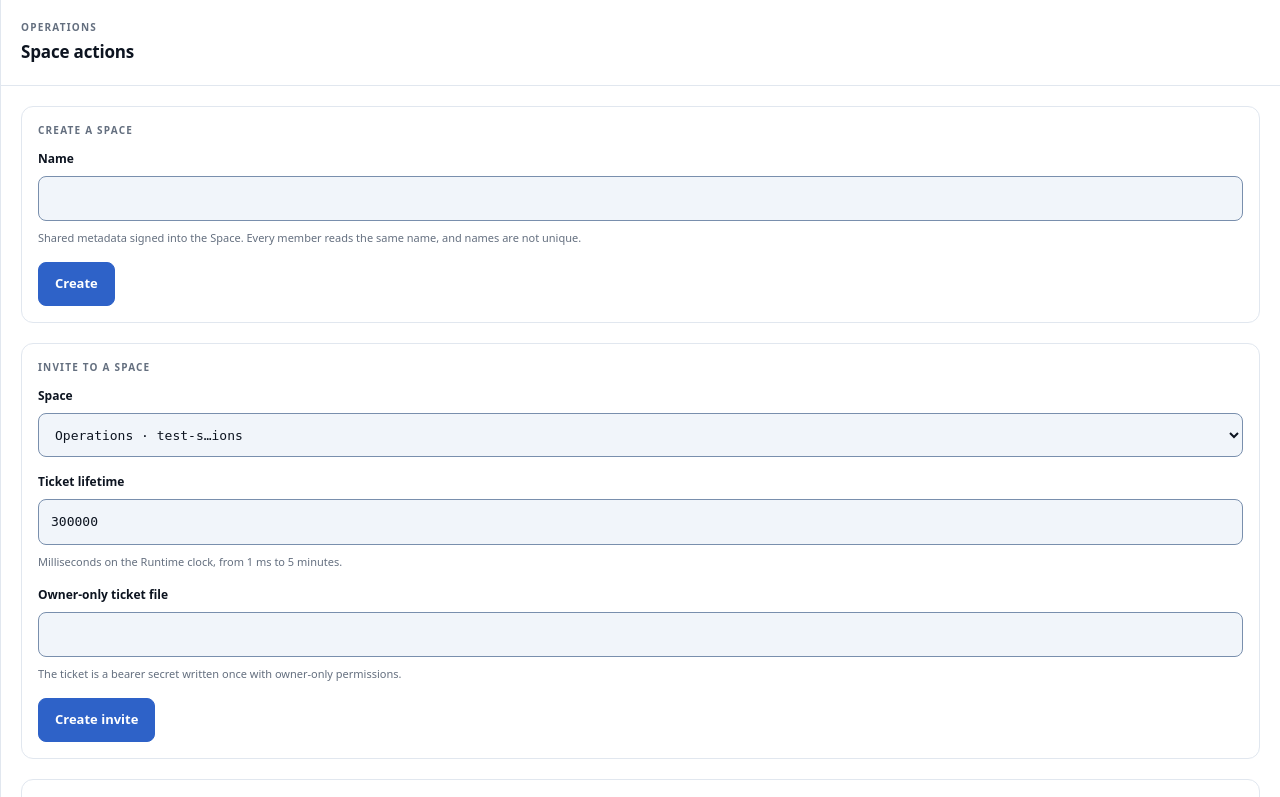
Test case: the invitation form never renders the ticket secret it asks the Runtime to write
Type "/tmp/operations.invite" into the field labelled "Owner-only ticket file" at (640, 634), box [38,612,1243,657]
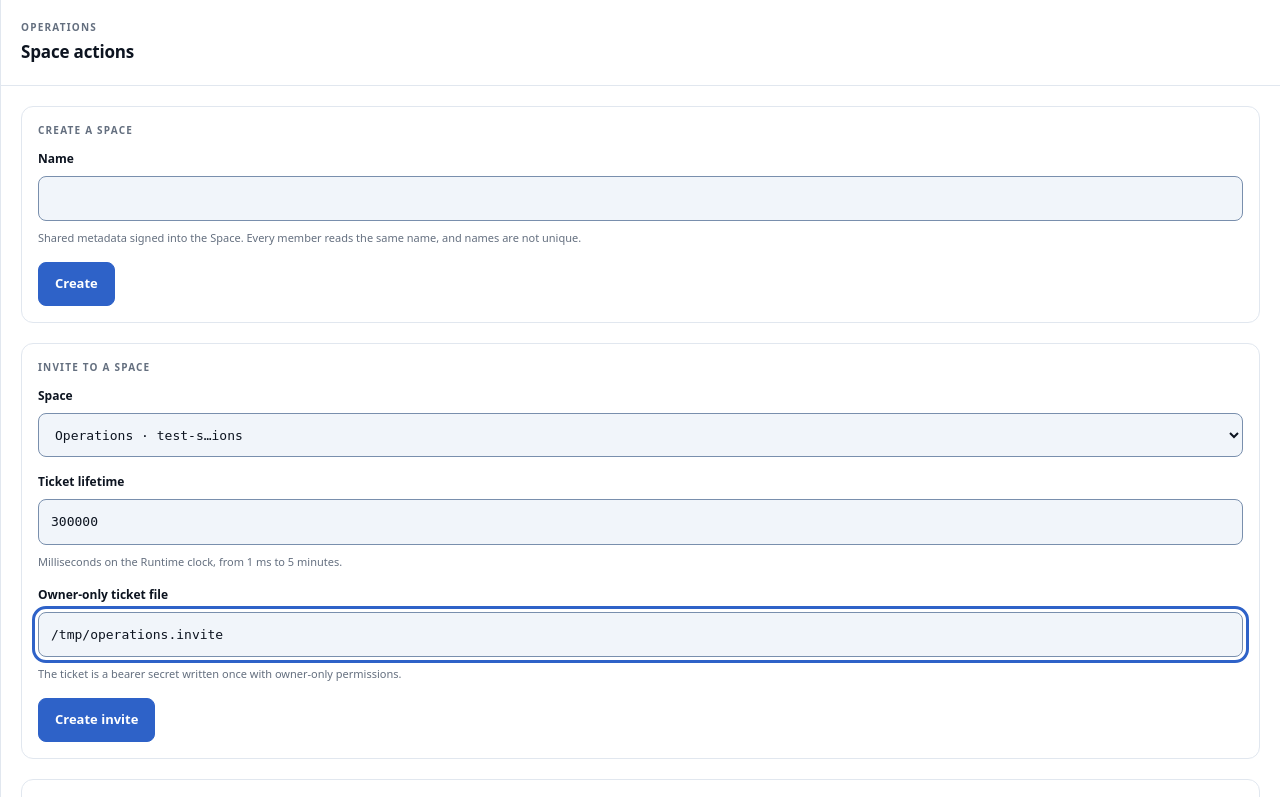
Click the button "Create invite" at (97, 720), box [38,698,155,742]
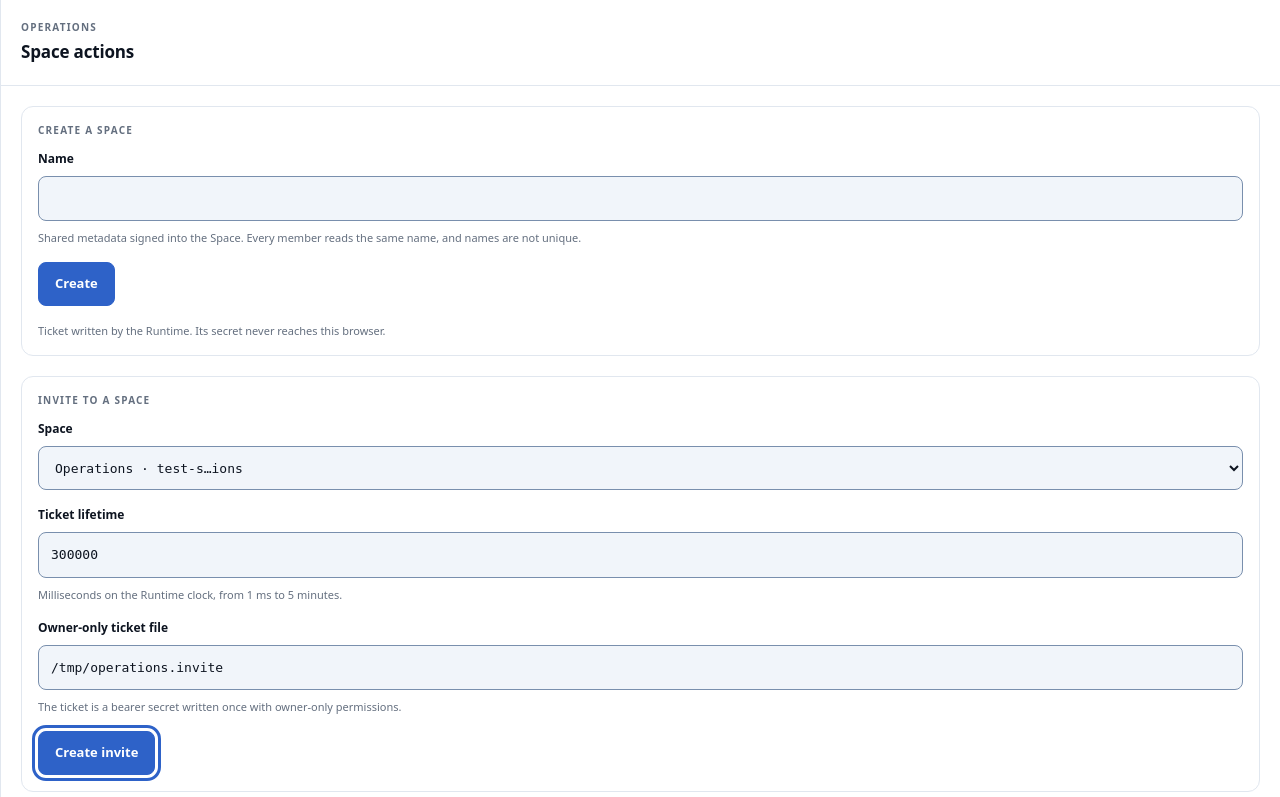
Expected: the text "Ticket written by the Runtime. Its secret never reaches this browser." is shown, [38,323,386,338]
